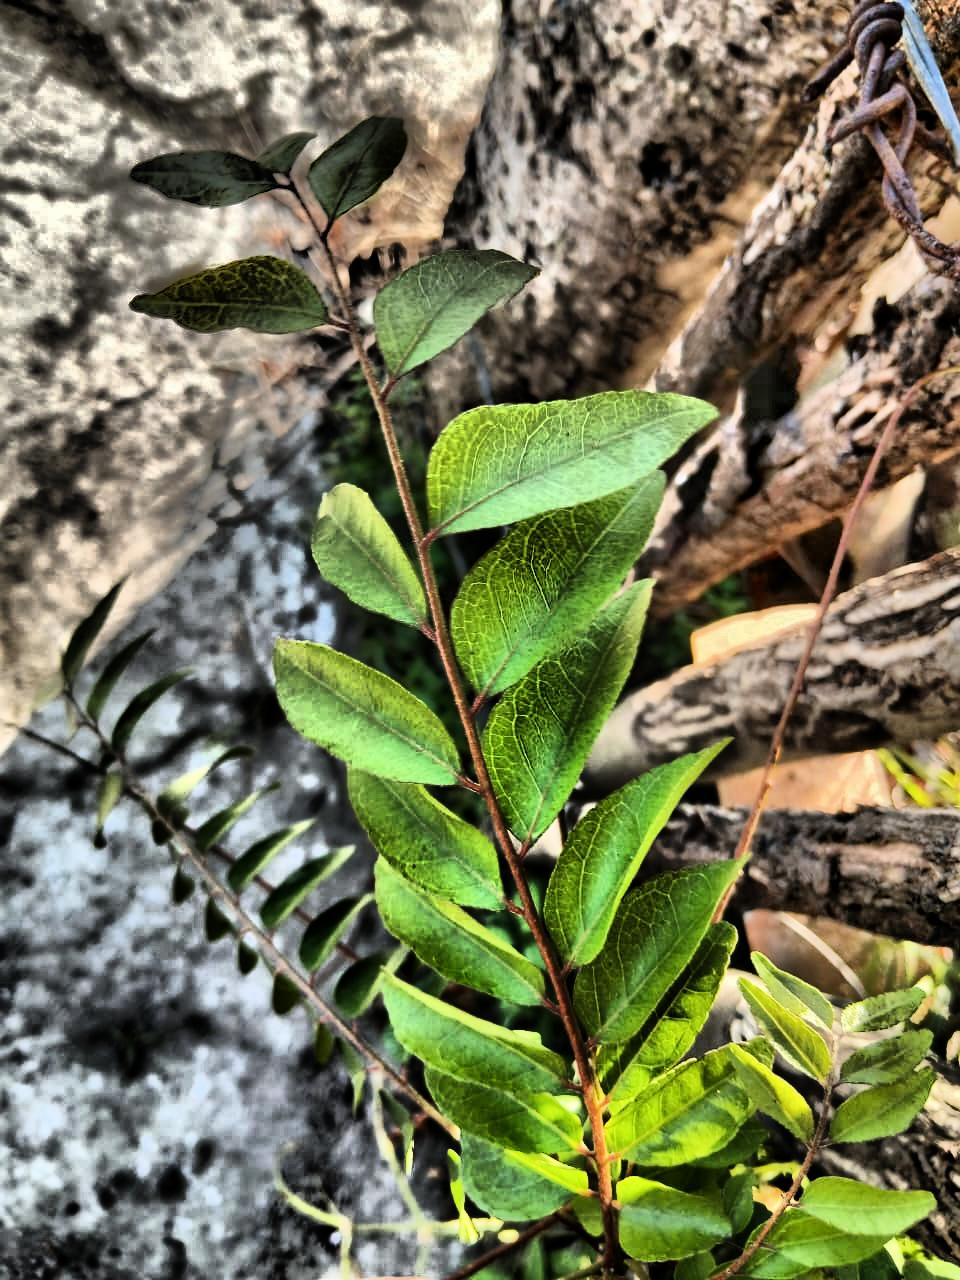daun kari: (132, 250, 913, 1275)
